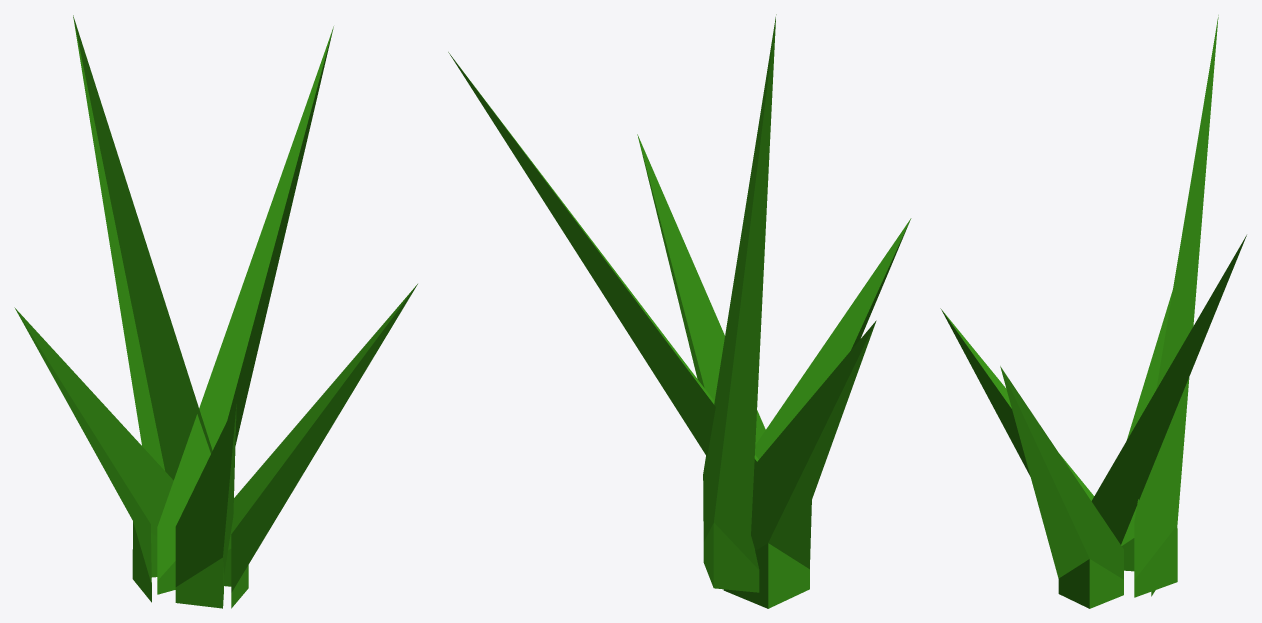
File: grass.glb
3 views of the same model, side by side, from view 1: azimuth 30°, elevation 25°; view 2: azimuth 150°, elevation 25°; view 3: azimuth 270°, elevation 25° (orthographic). The views are drawn at different scales.
Visible parts, largest first — view 1: grass; view 2: grass; view 3: grass.
Part boxes in pixels (x1,y1,x2,y2): grass: (14,15,417,608); grass: (448,14,911,608); grass: (940,15,1246,608).
Bounding box in the file's own units: 0.8779 × 1.33 × 0.6805.
